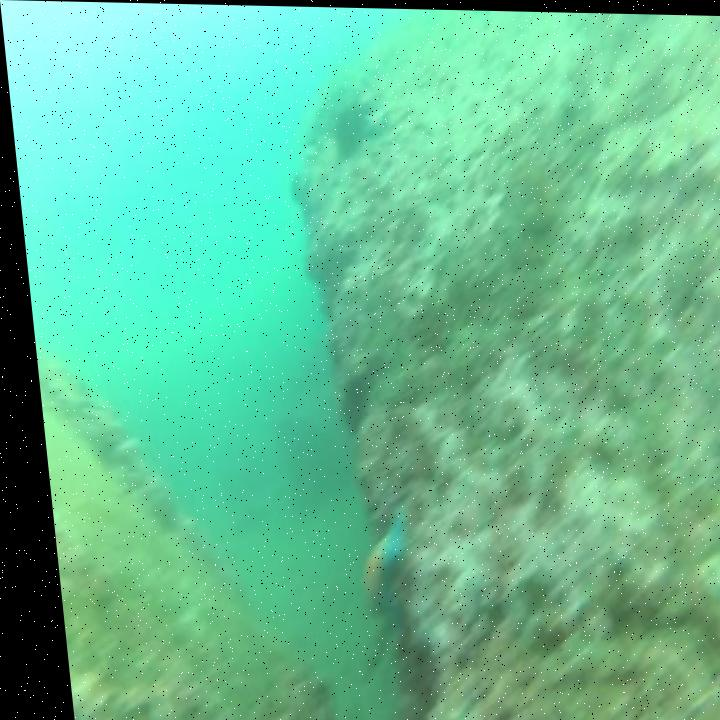starfish: (337, 510, 410, 636)
